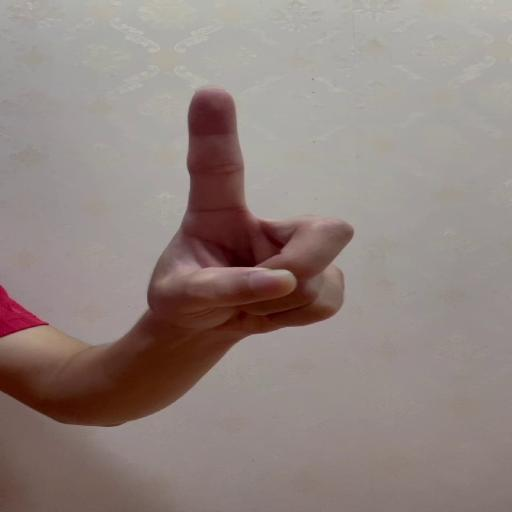point: (178, 83, 358, 333)
